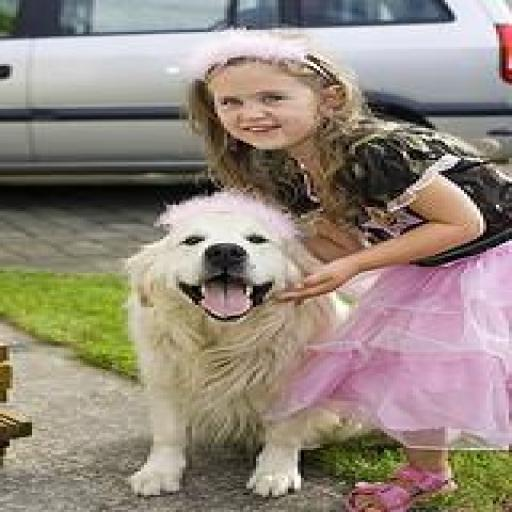dog_face: (138, 208, 291, 325)
